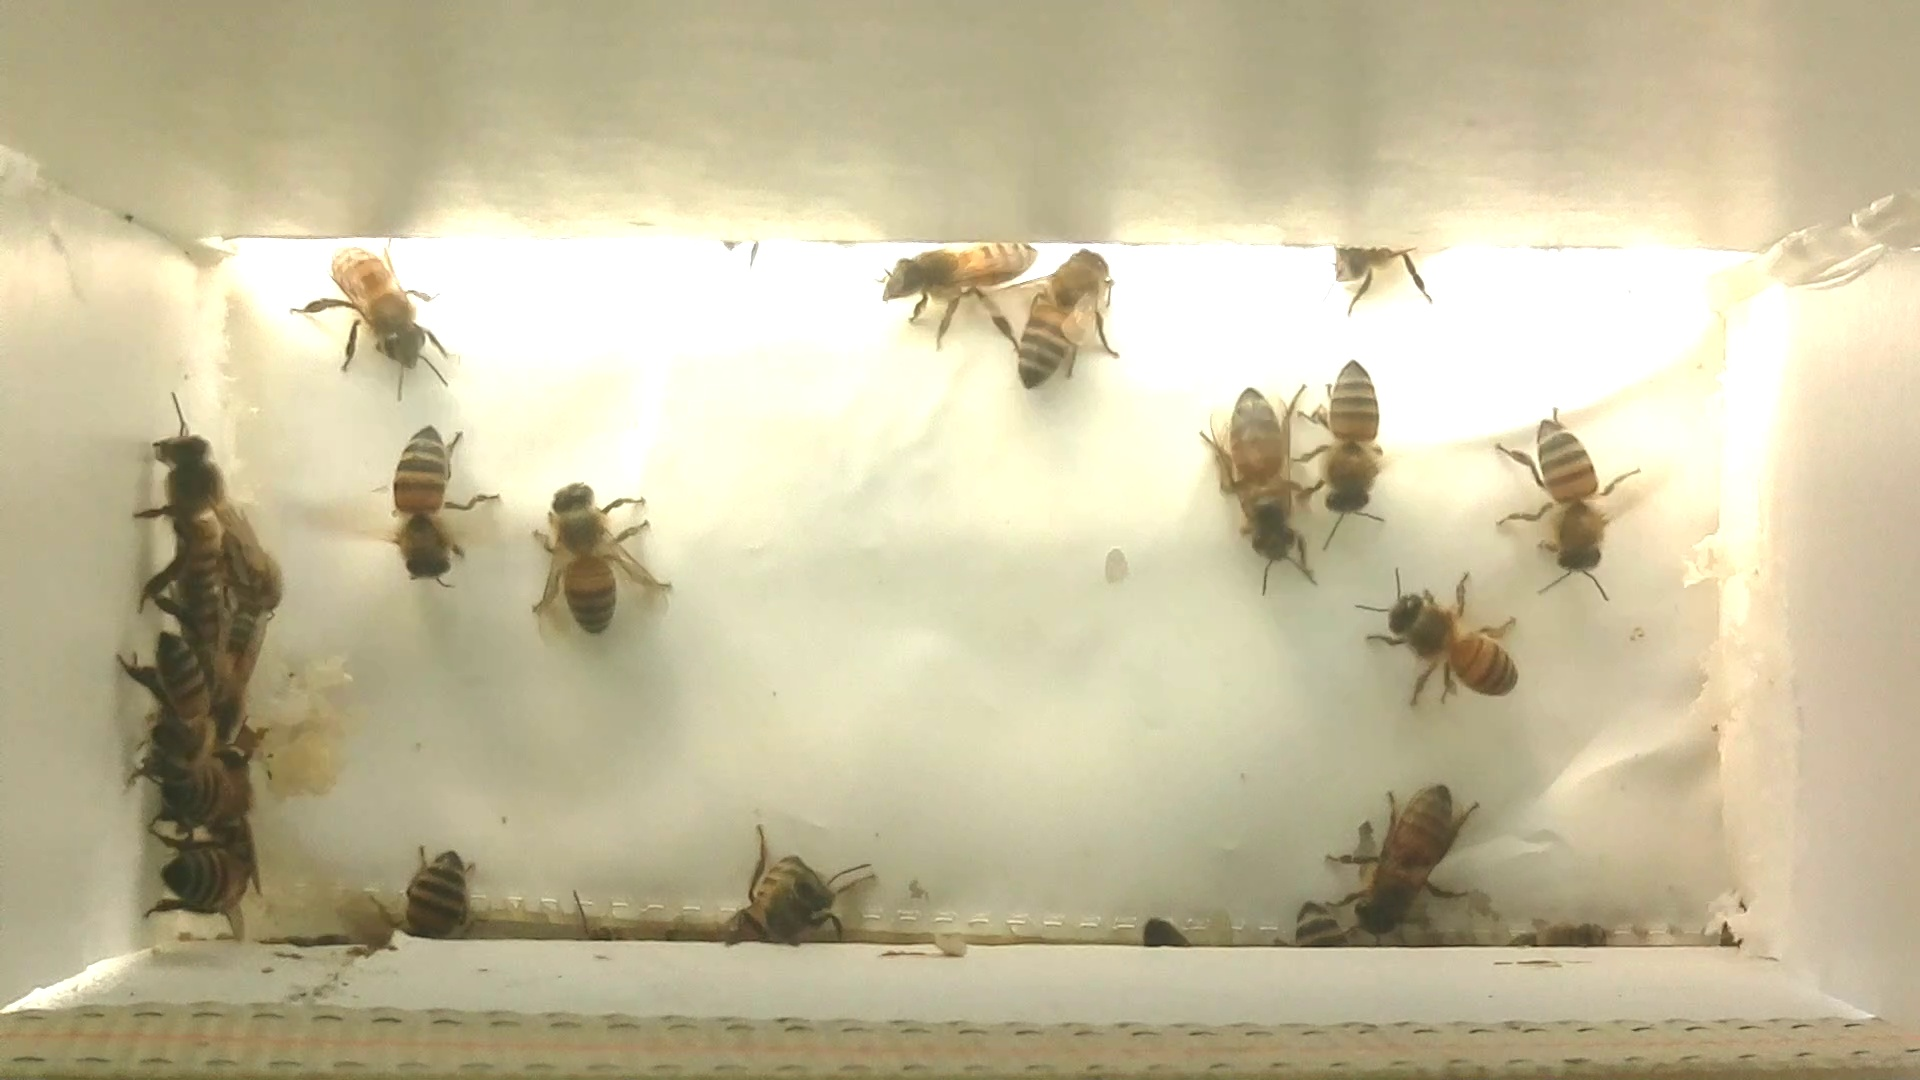bee: (1476, 396, 1648, 605), (1174, 368, 1328, 597), (1344, 556, 1553, 724), (1317, 765, 1501, 951), (345, 415, 521, 601), (291, 235, 464, 400), (520, 473, 680, 644), (996, 228, 1135, 401), (1291, 353, 1408, 547), (129, 410, 239, 616), (862, 219, 1040, 344), (120, 820, 287, 943), (125, 727, 286, 853), (705, 833, 872, 949), (351, 833, 501, 949), (116, 621, 231, 767), (210, 498, 301, 678), (1315, 241, 1458, 330), (1280, 899, 1358, 967)
